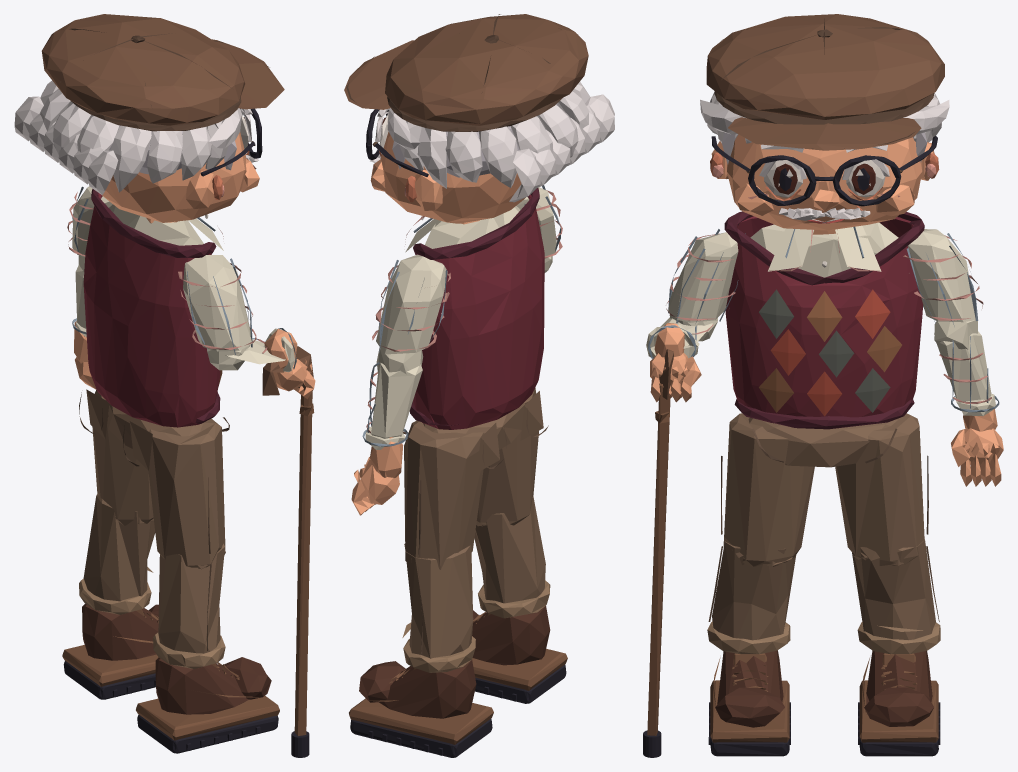
File: npc.civilian-elderly.lod1.glb
3 views of the same model, side by side, from view 1: azimuth 30°, elevation 25°; view 2: azimuth 150°, elevation 25°; view 3: azimuth 270°, elevation 25° (orthographic).
Parts seen in each view (by area): view 1: head, torso, footR, legR, handR, footL, shinR, shinL, armR, legL, hip, foreArmR (+3 smaller); view 2: head, torso, footL, legL, shinL, footR, shinR, armL, foreArmL, legR, hip, handL (+1 smaller); view 3: head, torso, legR, legL, footL, footR, shinL, shinR, handR, armL, armR, foreArmL (+3 smaller).
Boxes of the visible parts, bbox=[...] form: head: bbox=[14, 14, 284, 223]; torso: bbox=[83, 189, 223, 427]; footR: bbox=[136, 657, 279, 753]; legR: bbox=[148, 418, 225, 567]; handR: bbox=[262, 328, 315, 757]; footL: bbox=[62, 603, 158, 699]; shinR: bbox=[153, 543, 225, 669]; shinL: bbox=[79, 493, 155, 614]; armR: bbox=[178, 255, 256, 354]; legL: bbox=[92, 389, 153, 525]; hip: bbox=[79, 389, 229, 470]; foreArmR: bbox=[207, 328, 296, 372]; head: bbox=[344, 14, 614, 224]; torso: bbox=[405, 188, 544, 429]; footL: bbox=[349, 660, 493, 757]; legL: bbox=[404, 420, 483, 569]; shinL: bbox=[402, 543, 475, 672]; footR: bbox=[472, 606, 567, 703]; shinR: bbox=[474, 496, 550, 618]; armL: bbox=[372, 254, 450, 354]; foreArmL: bbox=[362, 348, 423, 449]; legR: bbox=[476, 388, 538, 526]; hip: bbox=[403, 391, 548, 472]; handL: bbox=[351, 437, 403, 515]; head: bbox=[700, 14, 949, 234]; torso: bbox=[724, 211, 924, 429]; legR: bbox=[721, 413, 814, 566]; legL: bbox=[835, 413, 928, 565]; footL: bbox=[858, 650, 940, 756]; footR: bbox=[708, 650, 790, 756]; shinL: bbox=[852, 539, 940, 654]; shinR: bbox=[707, 541, 796, 654]; handR: bbox=[643, 323, 701, 757]; armL: bbox=[903, 229, 983, 326]; armR: bbox=[666, 229, 745, 323]; foreArmL: bbox=[934, 320, 999, 416].
Size of the model in its own units: 0.5844 by 1.8 by 0.8593.
